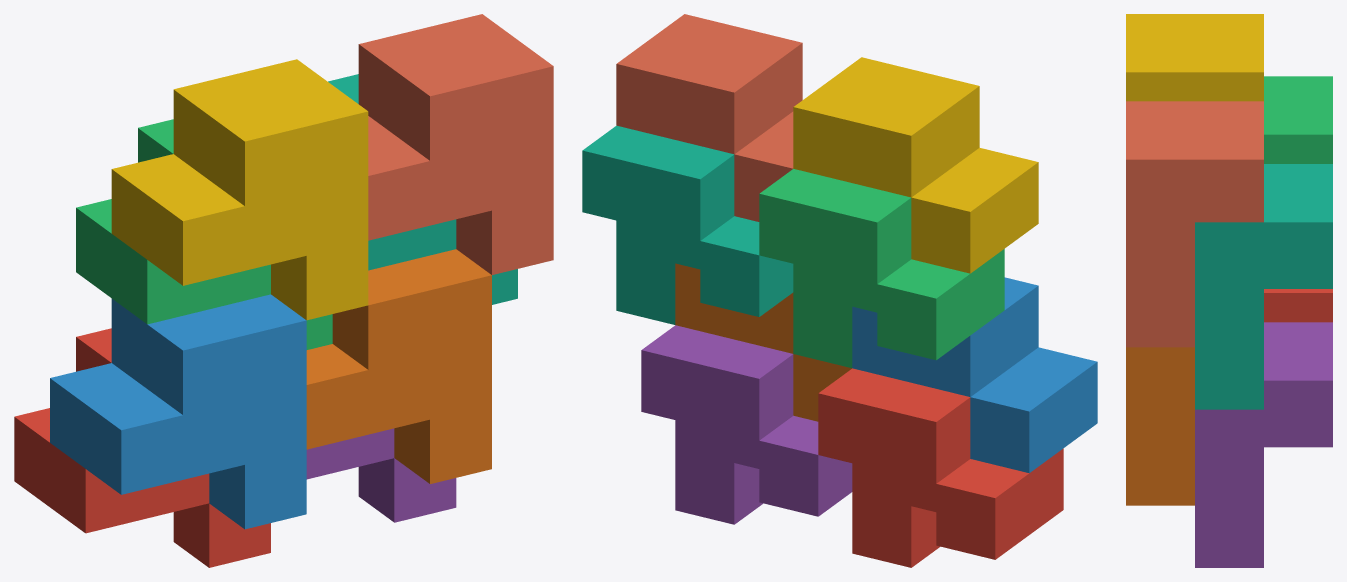
File: tiling.obj
The picture shows the model from 3 angles, left to right: view 1: azimuth 30°, elevation 25°; view 2: azimuth 150°, elevation 25°; view 3: azimuth 270°, elevation 25°; orthographic projection. The views are drawn at different scales.
Parts seen in each view (by area): view 1: copy_1_domain_4, copy_1_domain_2, copy_1_domain_8, copy_1_domain_6, copy_1_domain_1, copy_1_domain_3, copy_1_domain_5, copy_1_domain_7; view 2: copy_1_domain_4, copy_1_domain_1, copy_1_domain_3, copy_1_domain_5, copy_1_domain_7, copy_1_domain_8, copy_1_domain_2, copy_1_domain_6; view 3: copy_1_domain_8, copy_1_domain_7, copy_1_domain_5, copy_1_domain_4, copy_1_domain_6, copy_1_domain_3, copy_1_domain_1.
Boxes of the visible parts, bbox=[...] form: copy_1_domain_4: bbox=[111, 59, 368, 320]; copy_1_domain_2: bbox=[50, 294, 306, 529]; copy_1_domain_8: bbox=[358, 14, 553, 274]; copy_1_domain_6: bbox=[306, 249, 491, 483]; copy_1_domain_1: bbox=[14, 328, 270, 567]; copy_1_domain_3: bbox=[76, 119, 332, 349]; copy_1_domain_5: bbox=[306, 428, 456, 522]; copy_1_domain_7: bbox=[328, 74, 517, 304]; copy_1_domain_4: bbox=[793, 57, 1038, 273]; copy_1_domain_1: bbox=[818, 368, 1063, 567]; copy_1_domain_3: bbox=[759, 169, 1004, 367]; copy_1_domain_5: bbox=[641, 325, 852, 524]; copy_1_domain_7: bbox=[582, 125, 793, 324]; copy_1_domain_8: bbox=[616, 14, 802, 221]; copy_1_domain_2: bbox=[852, 277, 1097, 473]; copy_1_domain_6: bbox=[675, 263, 851, 421]; copy_1_domain_8: bbox=[1126, 101, 1263, 347]; copy_1_domain_7: bbox=[1195, 164, 1332, 409]; copy_1_domain_5: bbox=[1195, 322, 1332, 567]; copy_1_domain_4: bbox=[1126, 14, 1263, 101]; copy_1_domain_6: bbox=[1126, 347, 1194, 505]; copy_1_domain_3: bbox=[1264, 76, 1332, 163]; copy_1_domain_1: bbox=[1264, 289, 1332, 322].
Size of the model in its own units: 7 by 7 by 3.
